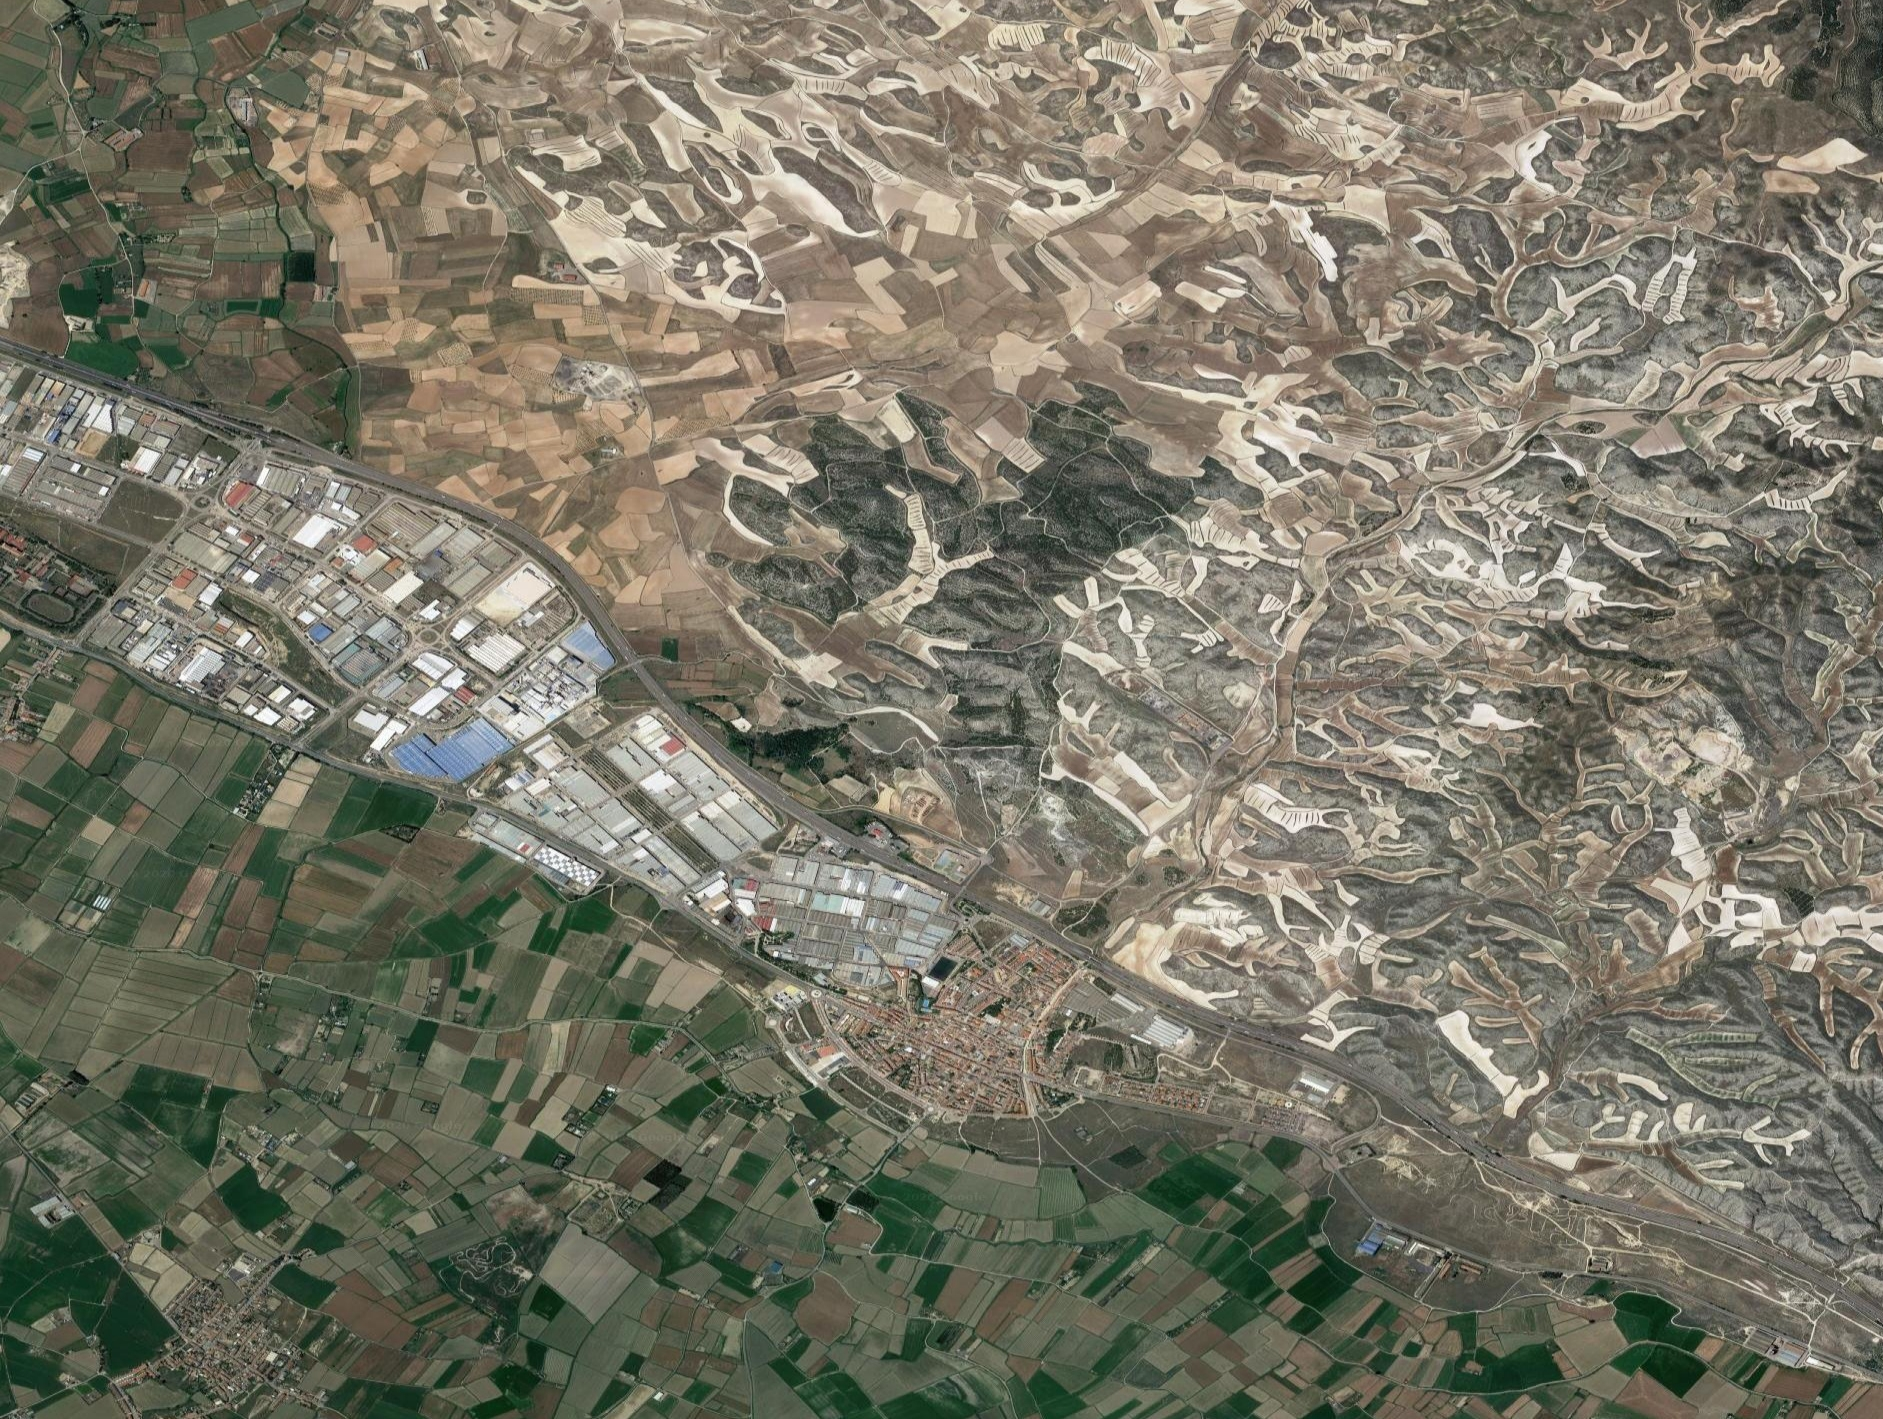industrial: (1, 398, 280, 717), (250, 528, 564, 802), (473, 739, 731, 917)
motorway: (1085, 955, 1873, 1324), (511, 537, 1091, 981), (10, 337, 523, 549)
